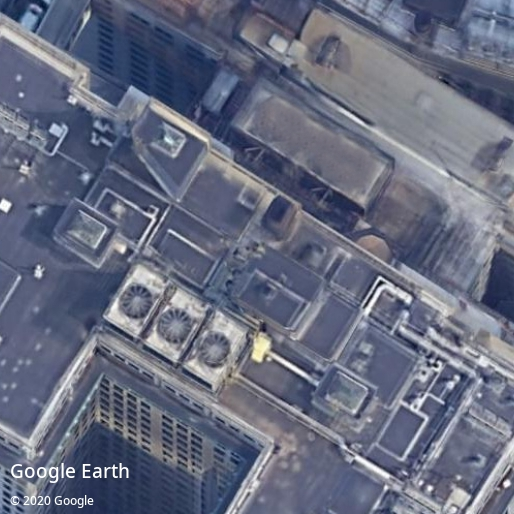Vent: (120, 284, 153, 320), (159, 309, 193, 343), (199, 332, 231, 366)
